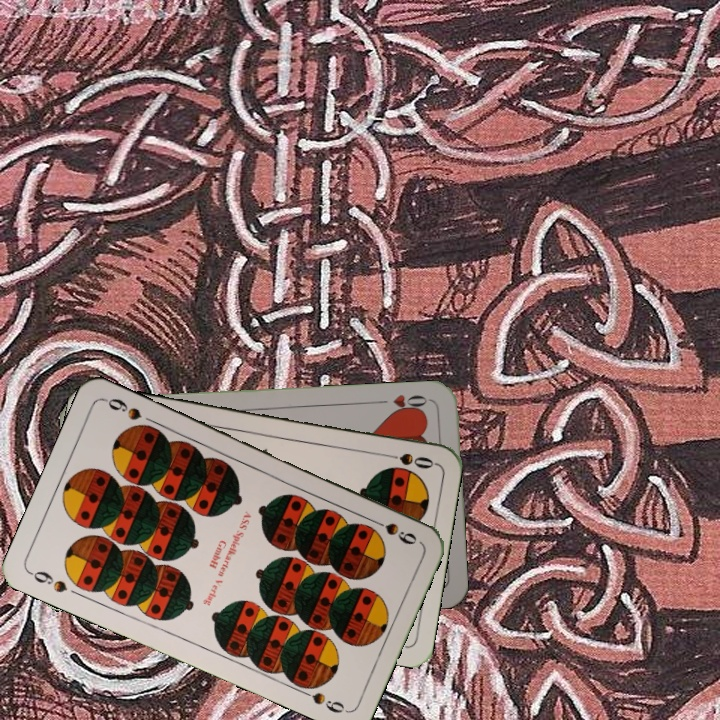HO: (374, 391, 433, 416)
S9: (365, 514, 420, 548), (25, 566, 70, 596)
SO: (378, 449, 437, 472)
